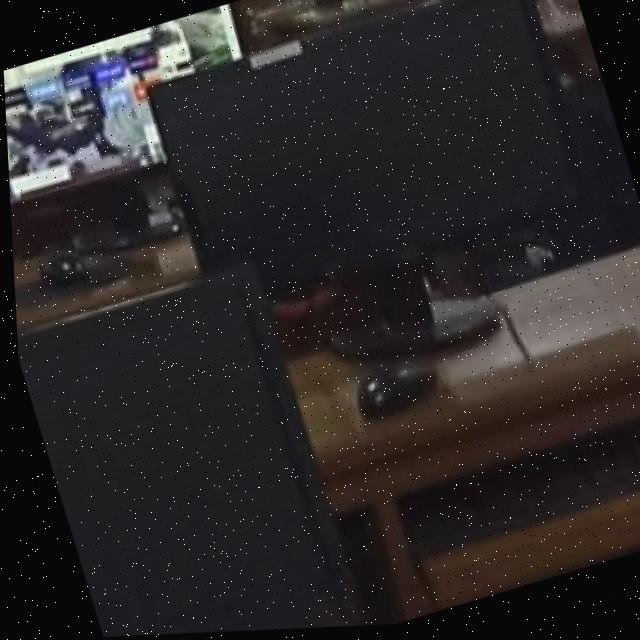offscreen: (14, 271, 356, 638), (149, 0, 576, 271), (3, 6, 240, 200)
